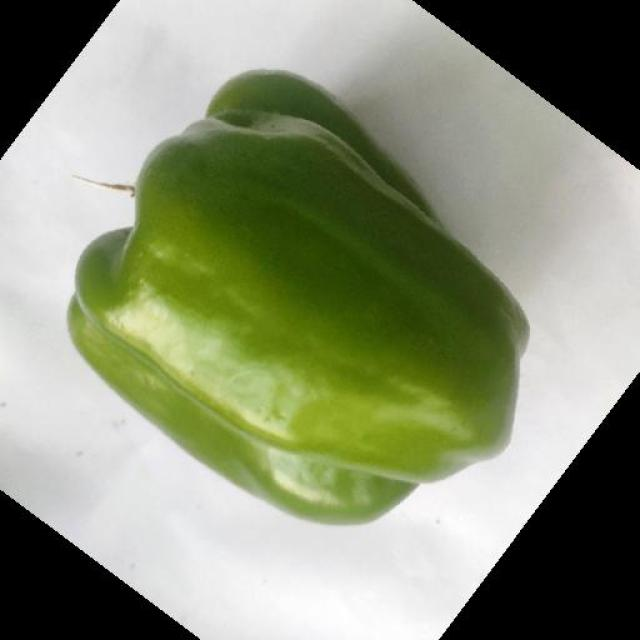Fresh_Capsicum: (76, 106, 551, 532)
